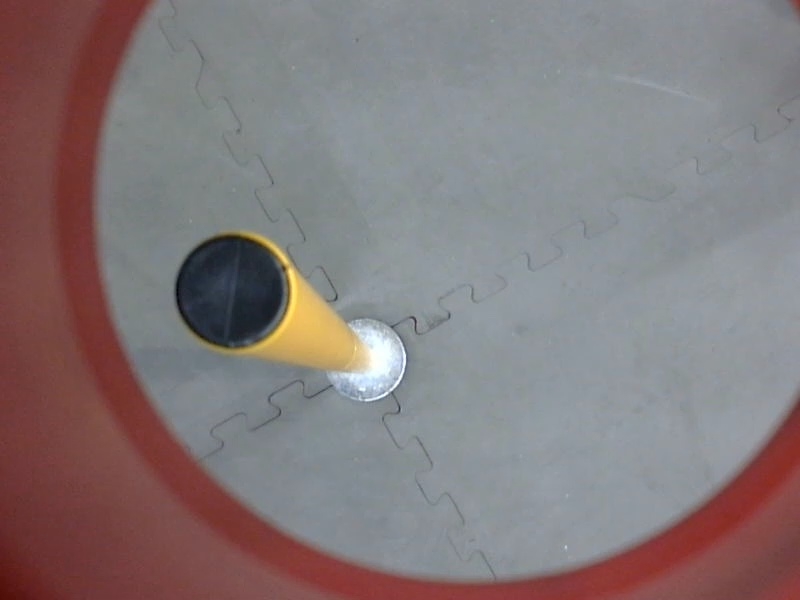tip: (167, 222, 299, 363)
